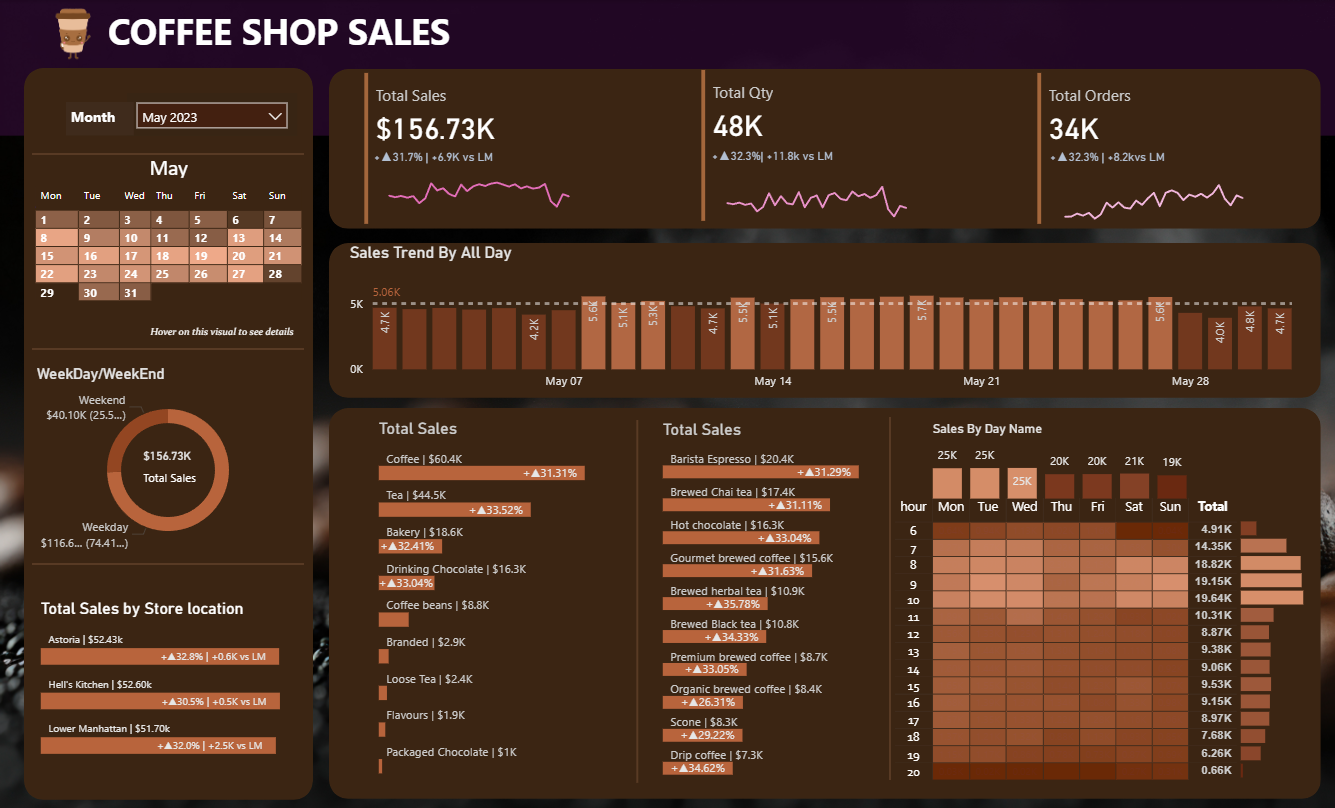

Layout of this report page (visuals, bound fields, positions):
{"tool":"powerbi","page":{"name":"Page 1","canvas":[1400,850],"ordinal":0},"visuals":[{"type":"shape","box":[0,0,1399.6,142.4],"z":0},{"type":"shape","box":[25,71.2,302.5,766.2],"z":1000},{"type":"donutChart","title":"WeekDay/WeekEnd","fields":{"Category":["Date Table.WeekDay/WeekEnd"],"Y":["Date Table.Total Sales"]},"box":[33.5,382.1,284.7,199.9],"z":2000},{"type":"shape","box":[344.4,72.2,1038.4,167.5],"z":3000},{"type":"cardVisual","fields":{"Data":["Date Table.Total Sales"]},"box":[366.4,74.3,300.4,165.4],"z":3000,"group":"g1"},{"type":"cardVisual","fields":{"Data":["Date Table.date_hover"]},"box":[140.3,320.3,195.8,45],"z":4000},{"type":"cardVisual","fields":{"Data":["Date Table.Total Sales"]},"box":[132.9,456.4,96.3,65.9],"z":5000},{"type":"textbox","box":[97.9,2.1,389.4,72.3],"z":6000},{"type":"lineChart","fields":{"Category":["Date Table.Date.Variation.Date Hierarchy.Day"],"Y":["Date Table.Total Sales"]},"box":[386.3,157,280.5,79.6],"z":6000,"group":"g1"},{"type":"card","fields":{"Values":["Min(Date Table.Month)"]},"box":[151,161.2,51.7,29.7],"z":7000},{"type":"cardVisual","fields":{"Data":["Date Table.Total_qty_order"]},"box":[718.6,71.2,300.4,165.4],"z":8000,"group":"g2"},{"type":"group","id":"g1","title":"Group 1","box":[366.4,74.3,300.4,165.4],"z":8000},{"type":"group","id":"g2","title":"Group 2","box":[718.6,71.2,300.4,165.4],"z":9000},{"type":"cardVisual","fields":{"Data":["Date Table.Total_order"]},"box":[1070.9,74.3,300.4,165.4],"z":9000,"group":"g3"},{"type":"slicer","fields":{"Values":["Date Table.Month Year"]},"box":[132.9,97.9,177.7,44.7],"z":9000,"group":"g4"},{"type":"lineChart","fields":{"Category":["Date Table.Date.Variation.Date Hierarchy.Day"],"Y":["Date Table.Total_qty_order"]},"box":[739.5,156,279.5,80.6],"z":10000,"group":"g2"},{"type":"pivotTable","fields":{"Columns":["Date Table.dayname"],"Rows":["Date Table.weeks num"],"Values":["Min(Date Table.day num)"]},"box":[33.5,190.5,294.2,161.2],"z":10000},{"type":"group","id":"g3","title":"Group 3","box":[1070.9,74.3,300.4,165.4],"z":11000},{"type":"image","box":[25.5,0,103.2,71.3],"z":12000},{"type":"lineChart","fields":{"Category":["Date Table.Date.Variation.Date Hierarchy.Day"],"Y":["Sum(Transactions.transaction_id)"]},"box":[1093.9,157,277.4,79.6],"z":12001,"group":"g3"},{"type":"shape","box":[33.5,151.8,284.7,18.8],"z":13000},{"type":"shape","box":[33.5,328.7,284.7,73.3],"z":14000},{"type":"shape","box":[33.5,553.8,284.7,73.3],"z":15000},{"type":"clusteredBarChart","title":"Total Sales by Store location","fields":{"Y":["Date Table.clust0","Date Table.Total Sales"],"Category":["Transactions.store_location"]},"box":[37.7,627,286.8,169.6],"z":16000},{"type":"textbox","box":[69.1,107.5,71.3,35.1],"z":17000,"group":"g4"},{"type":"shape","box":[344.4,254.4,1038.4,162.3],"z":17000},{"type":"columnChart","title":"Sales Trend By All Day","fields":{"Category":["Transactions.transaction_date"],"Y":["Sum(Transactions.Sales)"]},"box":[361.1,254.4,1004.9,162.3],"z":18000},{"type":"group","id":"g4","title":"Group 7","box":[69.1,97.9,241.5,44.7],"z":19000},{"type":"shape","box":[344.4,427.1,1038.4,409.3],"z":20000},{"type":"shape","box":[912.4,436.4,37.7,380],"z":21000},{"type":"shape","box":[648.5,439.3,38.3,379.8],"z":22000},{"type":"clusteredBarChart","title":"Total Sales By Product Category","fields":{"Category":["Transactions.product_category"],"Y":["Date Table.top0","Date Table.Total Sales"]},"box":[391.5,439.1,257.8,376.7],"z":23000},{"type":"clusteredBarChart","title":"Sales By Products (Top 10)","fields":{"Category":["Transactions.product_type"],"Y":["Date Table.top0","Date Table.Total Sales"]},"box":[689,439.4,250.2,376.8],"z":24000},{"type":"pivotTable","fields":{"Columns":["Date Table.dayname"],"Values":["Sum(Transactions.Sales)"],"Rows":["Transactions.hour"]},"box":[931.4,515.9,368.1,321.3],"z":25000},{"type":"barChart","fields":{"Y":["Sum(Transactions.Sales)"],"Category":["Transactions.hour"]},"box":[1294.2,532.9,76.6,286.2],"z":26000},{"type":"columnChart","title":"Sales By Day | Hour","fields":{"Category":["Date Table.dayname"],"Y":["Sum(Transactions.Sales)"]},"box":[971.8,441.6,276.6,86.2],"z":27000}]}

Visuals, with their boxes in screenshot pixels (x1, y1, x2, y2), scaled from the page's 1400x850 canvas onto the 1335x808 screenshot:
shape: <region>0, 0, 1334, 135</region>
shape: <region>24, 68, 312, 796</region>
"WeekDay/WeekEnd" donutChart: <region>32, 363, 303, 553</region>
shape: <region>328, 69, 1319, 228</region>
cardVisual - Date Table.Total Sales: <region>349, 71, 636, 228</region>
cardVisual - Date Table.date_hover: <region>134, 304, 320, 347</region>
cardVisual - Date Table.Total Sales: <region>127, 434, 219, 496</region>
textbox: <region>93, 2, 465, 71</region>
lineChart - Date Table.Date.Variation.Date Hierarchy.Day x Date Table.Total Sales: <region>368, 149, 636, 225</region>
card - Min(Date Table.Month): <region>144, 153, 193, 181</region>
cardVisual - Date Table.Total_qty_order: <region>685, 68, 972, 225</region>
"Group 1" group: <region>349, 71, 636, 228</region>
"Group 2" group: <region>685, 68, 972, 225</region>
cardVisual - Date Table.Total_order: <region>1021, 71, 1308, 228</region>
slicer - Date Table.Month Year: <region>127, 93, 296, 136</region>
lineChart - Date Table.Date.Variation.Date Hierarchy.Day x Date Table.Total_qty_order: <region>705, 148, 972, 225</region>
pivotTable - Date Table.dayname x Date Table.weeks num: <region>32, 181, 312, 334</region>
"Group 3" group: <region>1021, 71, 1308, 228</region>
image: <region>24, 0, 123, 68</region>
lineChart - Date Table.Date.Variation.Date Hierarchy.Day x Sum(Transactions.transaction_id): <region>1043, 149, 1308, 225</region>
shape: <region>32, 144, 303, 162</region>
shape: <region>32, 312, 303, 382</region>
shape: <region>32, 526, 303, 596</region>
"Total Sales by Store location" clusteredBarChart: <region>36, 596, 309, 757</region>
textbox: <region>66, 102, 134, 136</region>
shape: <region>328, 242, 1319, 396</region>
"Sales Trend By All Day" columnChart: <region>344, 242, 1303, 396</region>
"Group 7" group: <region>66, 93, 296, 136</region>
shape: <region>328, 406, 1319, 795</region>
shape: <region>870, 415, 906, 776</region>
shape: <region>618, 418, 655, 779</region>
"Total Sales By Product Category" clusteredBarChart: <region>373, 417, 619, 775</region>
"Sales By Products (Top 10)" clusteredBarChart: <region>657, 418, 896, 776</region>
pivotTable - Date Table.dayname x Sum(Transactions.Sales): <region>888, 490, 1239, 796</region>
barChart - Sum(Transactions.Sales) x Transactions.hour: <region>1234, 507, 1307, 779</region>
"Sales By Day | Hour" columnChart: <region>927, 420, 1190, 502</region>
